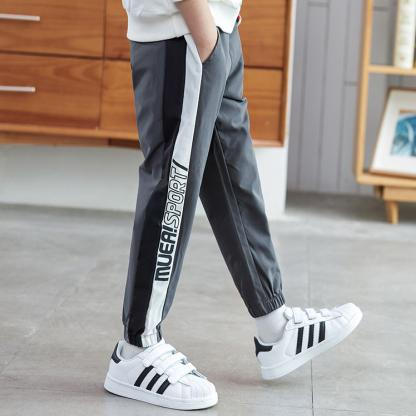dress: (119, 14, 284, 348)
